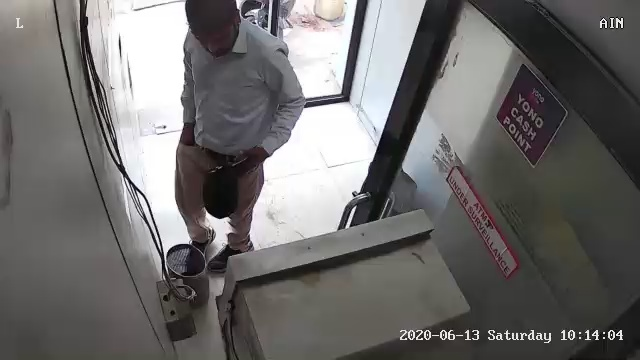open: (335, 6, 634, 353)
